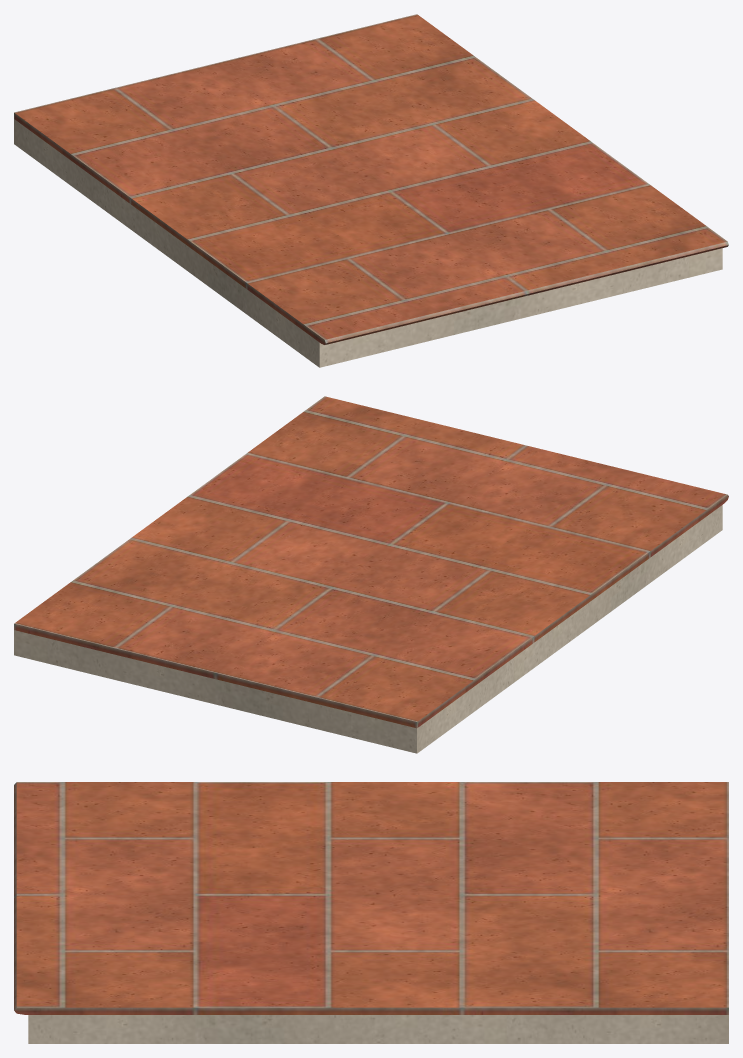
The model's file is arcade_floor.glb.
3 renders of one model, top to bottom at view 1: azimuth 30°, elevation 25°; view 2: azimuth 150°, elevation 25°; view 3: azimuth 270°, elevation 25°, orthographic. The views are drawn at different scales.
Parts seen in each view (by area): view 1: arcade_floor_saltillo, arcade_floor_render; view 2: arcade_floor_saltillo, arcade_floor_render; view 3: arcade_floor_saltillo, arcade_floor_render.
Part boxes in pixels (box(x1,y1,x2,y2)): arcade_floor_saltillo: box(14, 14, 728, 344); arcade_floor_render: box(14, 119, 722, 367); arcade_floor_saltillo: box(14, 396, 728, 728); arcade_floor_render: box(14, 505, 722, 753); arcade_floor_saltillo: box(14, 782, 728, 1014); arcade_floor_render: box(28, 1015, 728, 1043).
Bounding box in the file's own units: 2 × 0.15 × 2.68.
2 materials, 2 textured.
